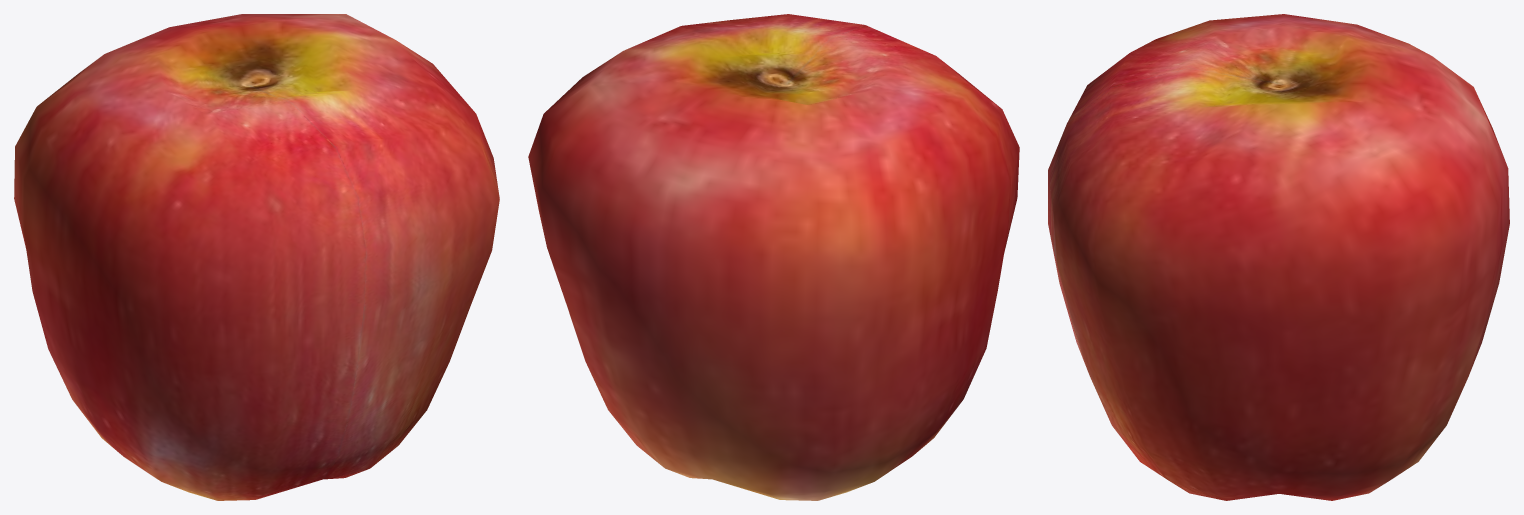
File: Food_Apple.glb
The picture shows the model from 3 angles, left to right: view 1: azimuth 30°, elevation 25°; view 2: azimuth 150°, elevation 25°; view 3: azimuth 270°, elevation 25°; orthographic projection.
Parts seen in each view (by area): view 1: Food_Apple; view 2: Food_Apple; view 3: Food_Apple.
Boxes of the visible parts, left/top/right/bottom form: Food_Apple: left=14, top=14, right=499, bottom=500; Food_Apple: left=528, top=14, right=1019, bottom=500; Food_Apple: left=1048, top=14, right=1509, bottom=500.
Size of the model in its own units: 0.18 by 0.1707 by 0.18.
Materials: 1 (1 with a texture image).
